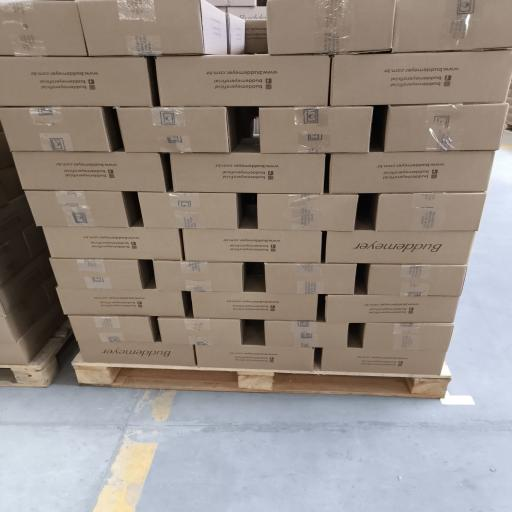pallet: (72, 354, 450, 398), (0, 319, 72, 387)
